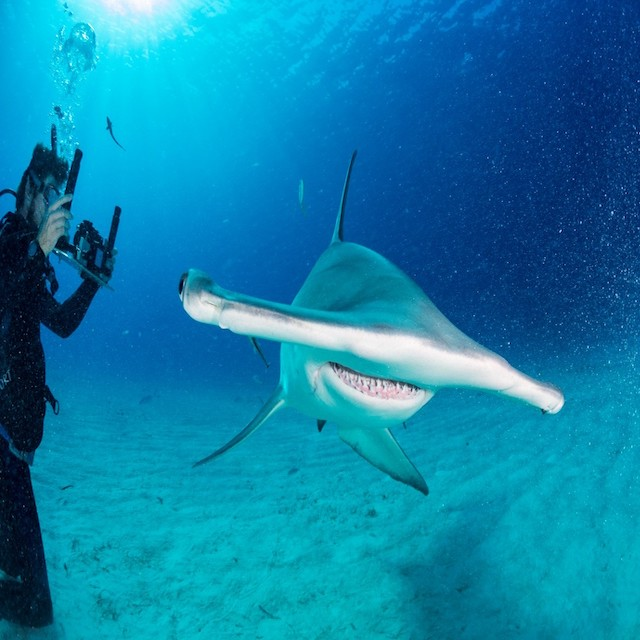hammerhead: (159, 211, 558, 483)
